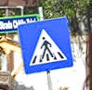trecere_pietoni: (18, 20, 73, 70)
